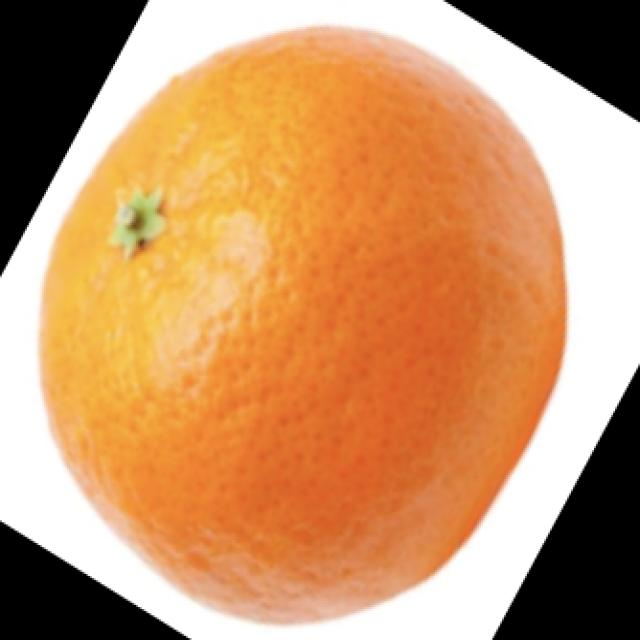fresh: (21, 28, 584, 629)
